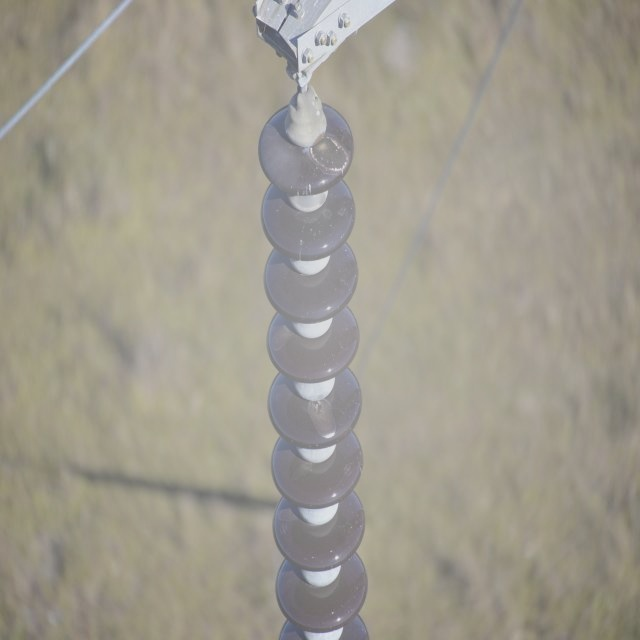insulator: (258, 102, 372, 640)
